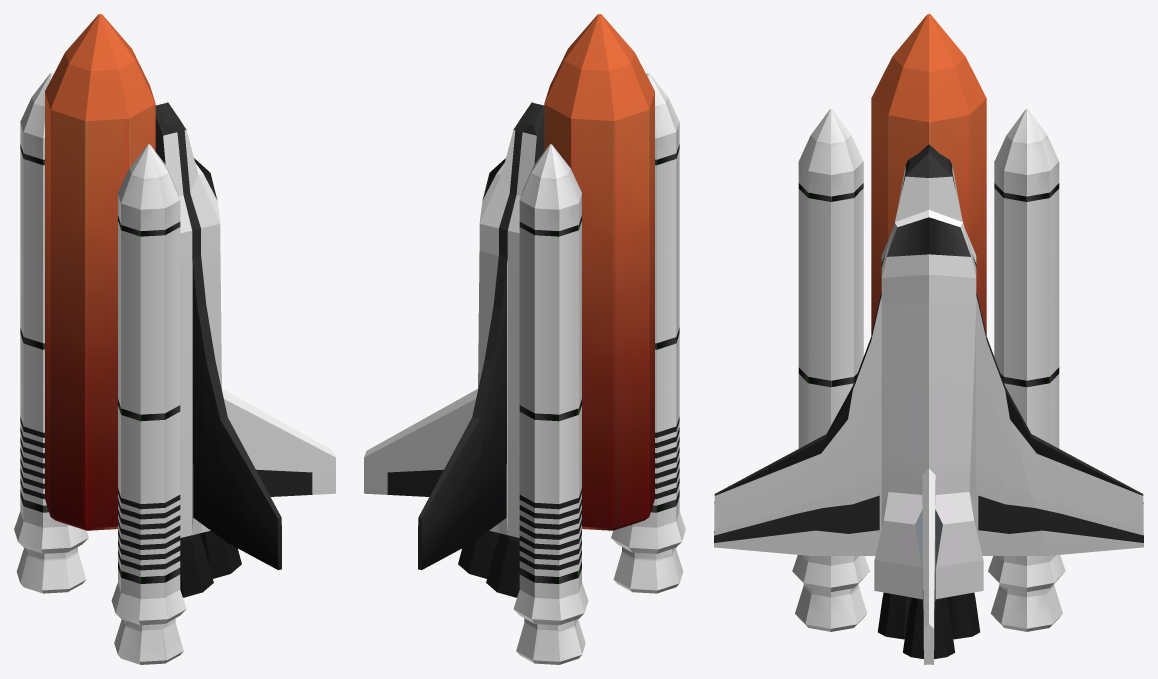
The model's file is shuttle-transformed.glb.
The picture shows the model from 3 angles, left to right: view 1: azimuth 30°, elevation 25°; view 2: azimuth 150°, elevation 25°; view 3: azimuth 270°, elevation 25°; orthographic projection.
Parts seen in each view (by area): view 1: Object_4; view 2: Object_4; view 3: Object_4.
Boxes of the visible parts, x1,y1,x2,y2 form: Object_4: (14, 14, 335, 664); Object_4: (364, 14, 685, 664); Object_4: (714, 14, 1143, 664).
Size of the model in its own units: 7.52 by 15.28 by 9.87.
Materials: 1 (1 with a texture image).
